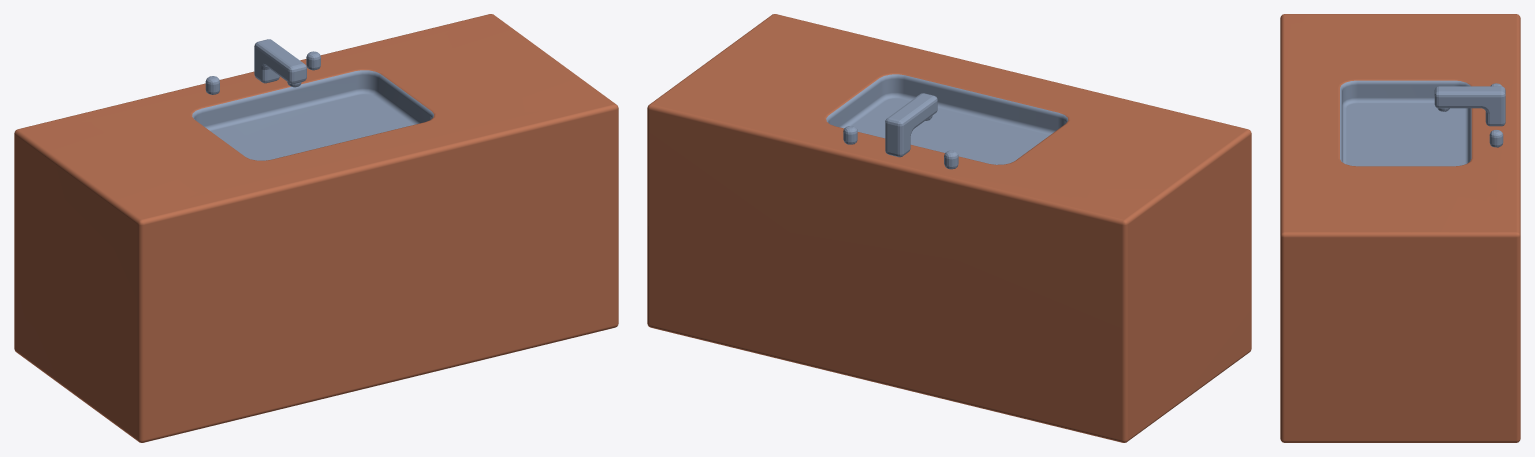
The model's file is sink.glb.
The picture shows the model from 3 angles, left to right: view 1: azimuth 30°, elevation 25°; view 2: azimuth 150°, elevation 25°; view 3: azimuth 270°, elevation 25°; orthographic projection. The views are drawn at different scales.
Visible parts, largest first — view 1: Sink; view 2: Sink; view 3: Sink.
Boxes of the visible parts, x1,y1,x2,y2 form: Sink: (14, 14, 618, 442); Sink: (647, 14, 1251, 442); Sink: (1280, 14, 1520, 442).
Bounding box in the file's own units: 1.2 × 0.6213 × 0.5518.
1 material, 1 textured.
